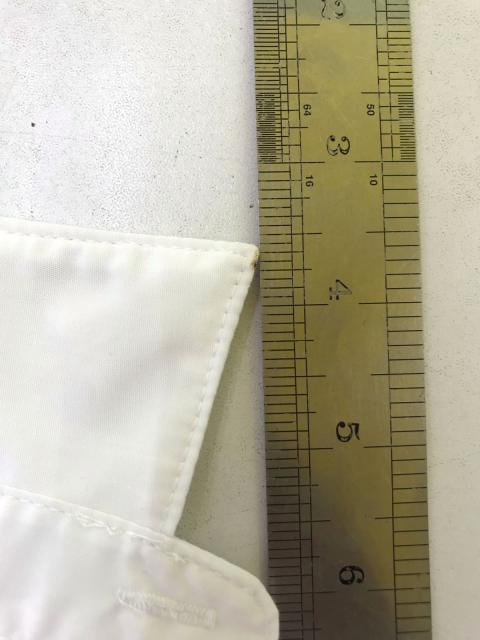Dirty_mark: (246, 256, 261, 275)
